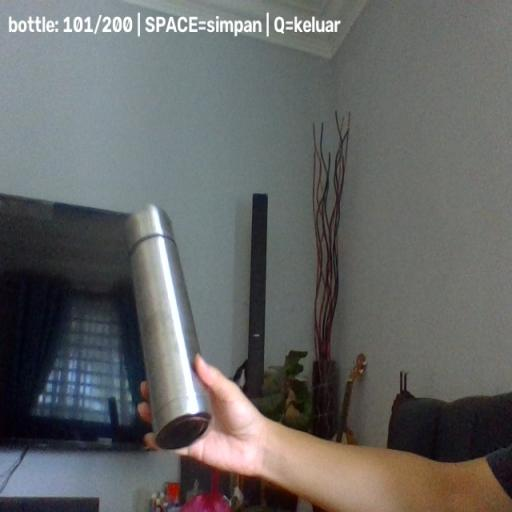Bottle: (122, 204, 213, 449)
